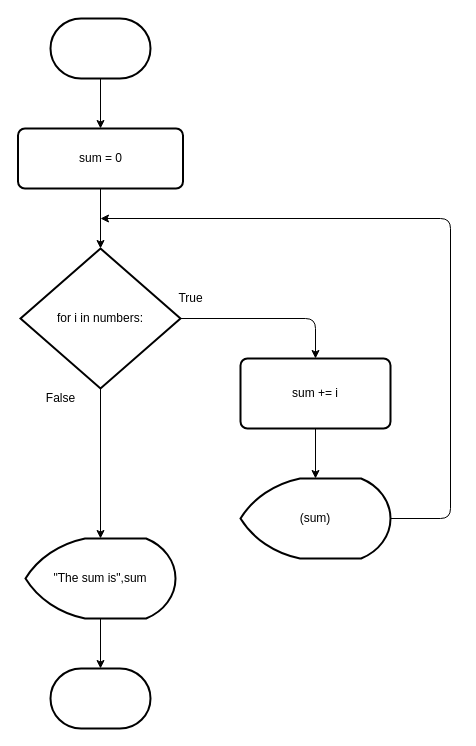
Image size: 476x746. Some labels were removed from this diagram. Each missing label, with the centre of its shape:
"start" goes at pixel 100 48.
"Stop" goes at pixel 100 698.
